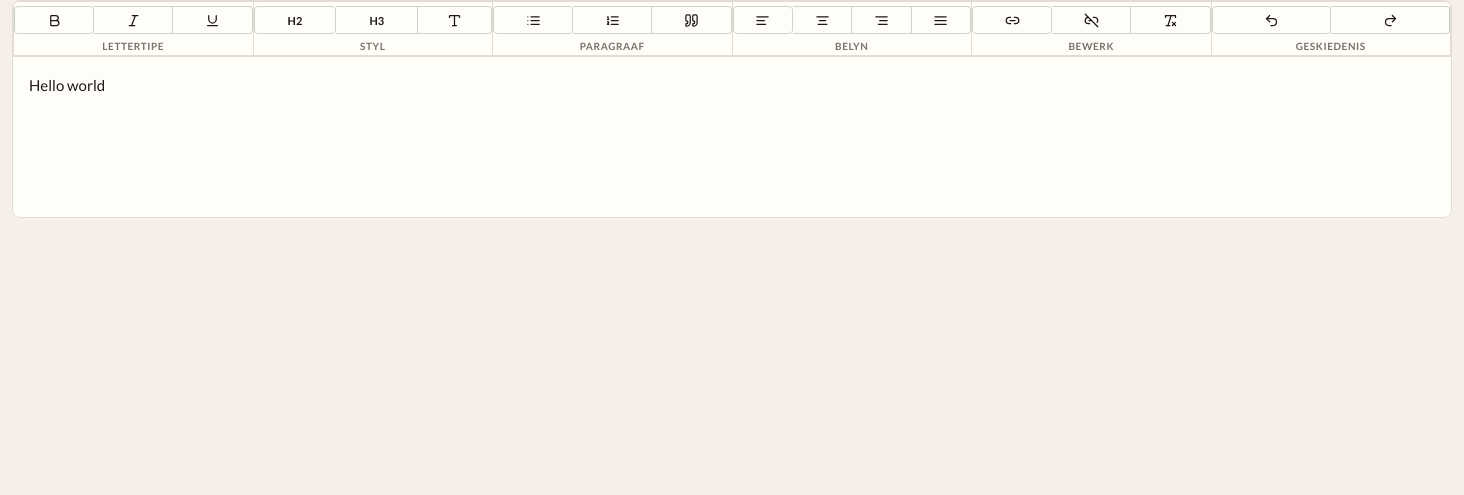
Test: RichTextBlockEditor › opens a custom context menu on right-click with clipboard and formatting actions
This screenshot has width=1464, height=495.
Right-click the field labelled "Hello world" at (67, 85), box top-left (29, 76), bottom-right (105, 94)
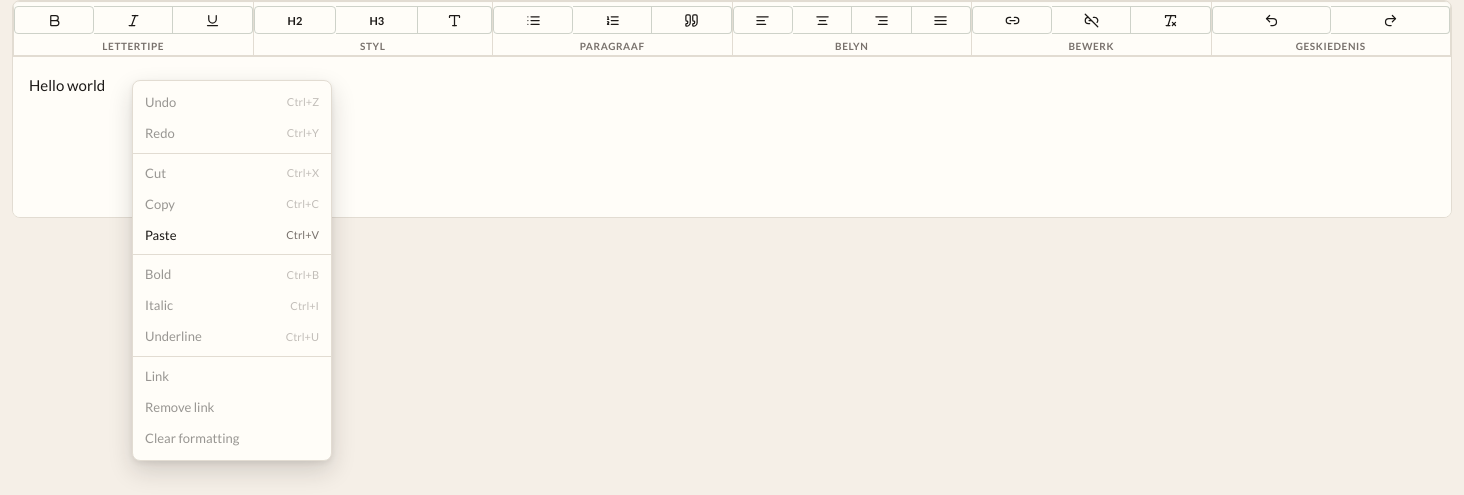
Now the menu is shown, box top-left (132, 80), bottom-right (332, 461)
Now the menu shows "Cut", box top-left (133, 158), bottom-right (331, 189)
Now the menu shows "Copy", box top-left (133, 189), bottom-right (331, 220)
